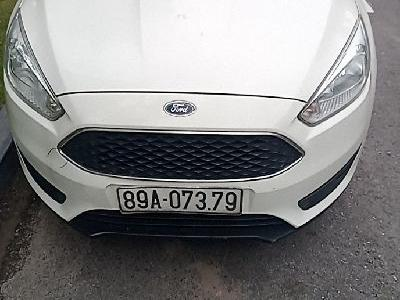car: (116, 186, 244, 219)
